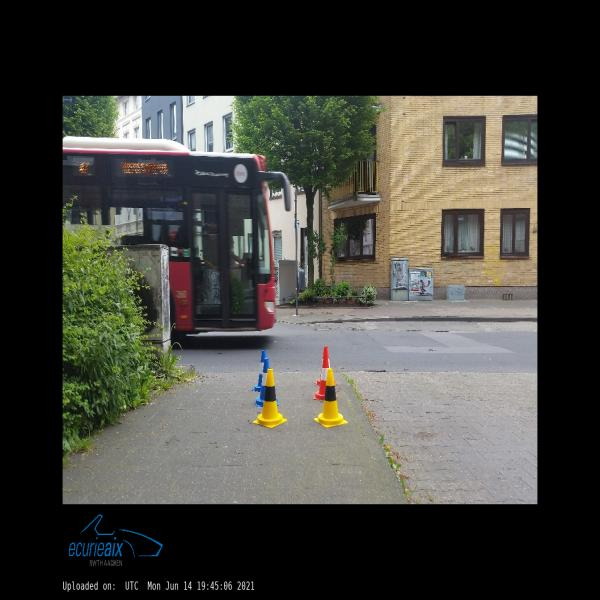blue_cone: (255, 358, 279, 406), (252, 350, 276, 392)
orange_cone: (314, 355, 338, 400), (315, 347, 337, 385)
yellow_cone: (314, 368, 348, 428), (253, 370, 287, 428)
